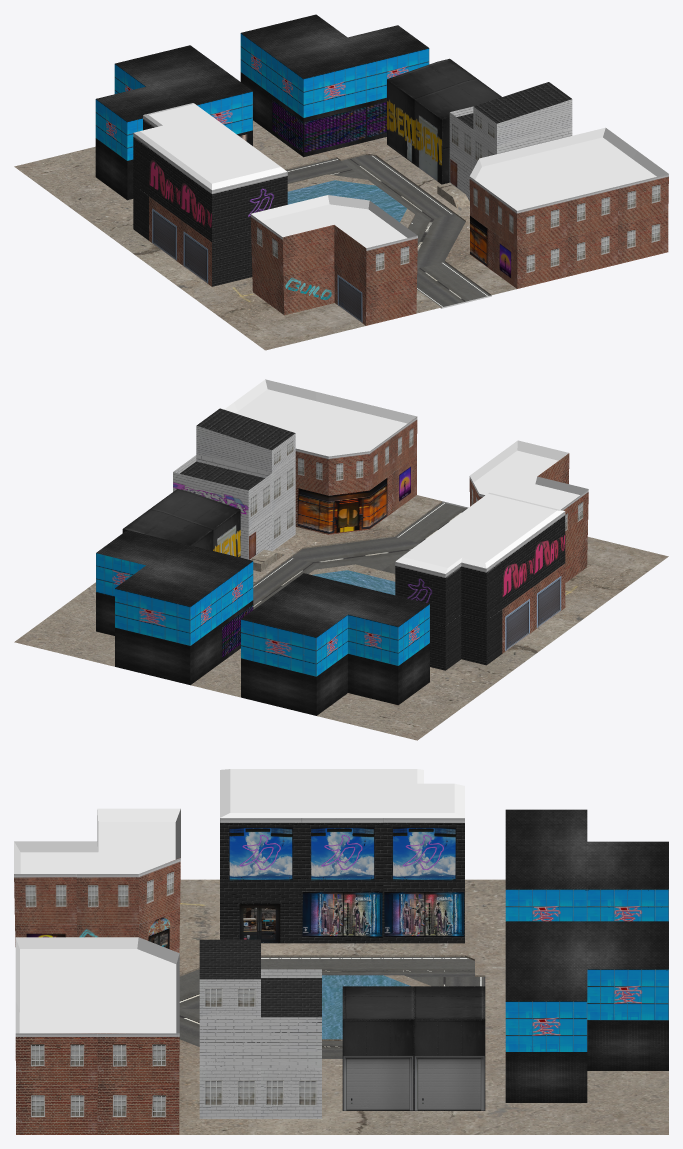
The model's file is escenario1.obj.
3 renders of one model, top to bottom at view 1: azimuth 30°, elevation 25°; view 2: azimuth 150°, elevation 25°; view 3: azimuth 270°, elevation 25°, orthographic. The views are drawn at different scales.
Parts seen in each view (by area): view 1: Plane; view 2: Plane; view 3: Plane.
Boxes of the visible parts, <box> form: Plane: <box>14,14,668,350</box>; Plane: <box>14,379,668,740</box>; Plane: <box>14,769,668,1134</box>.
Size of the model in its own units: 16.16 by 4.17 by 17.49.
34 materials, 34 textured.
